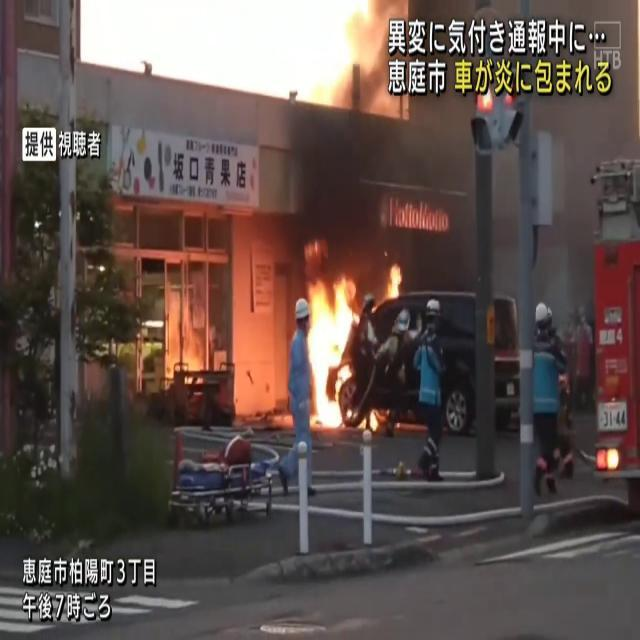Fire: (297, 268, 365, 432), (382, 259, 406, 305)
Smoke: (274, 0, 463, 266)
